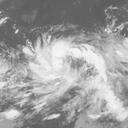cyclone: (24, 33, 107, 106)
